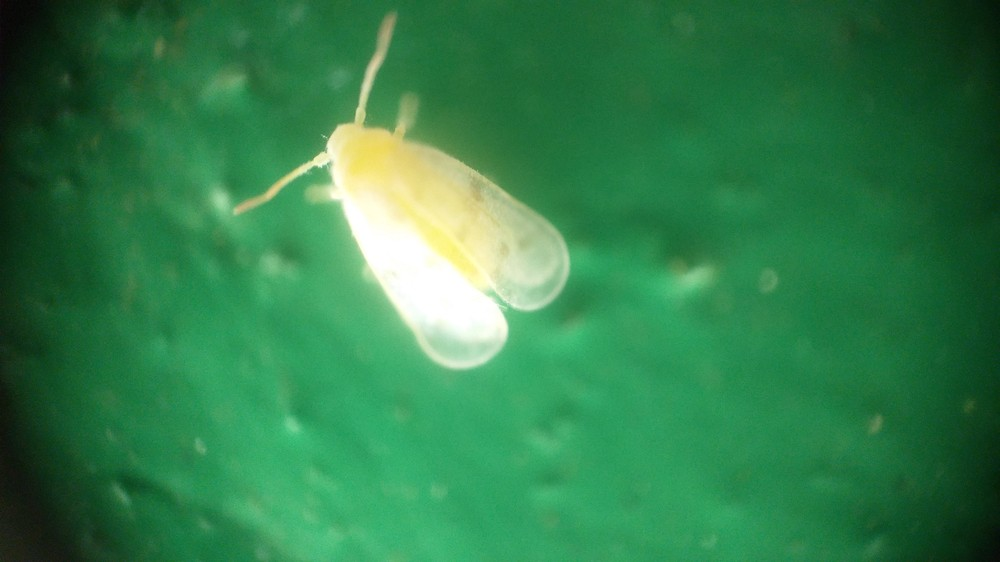Mosca Blanca: (213, 9, 636, 399)
